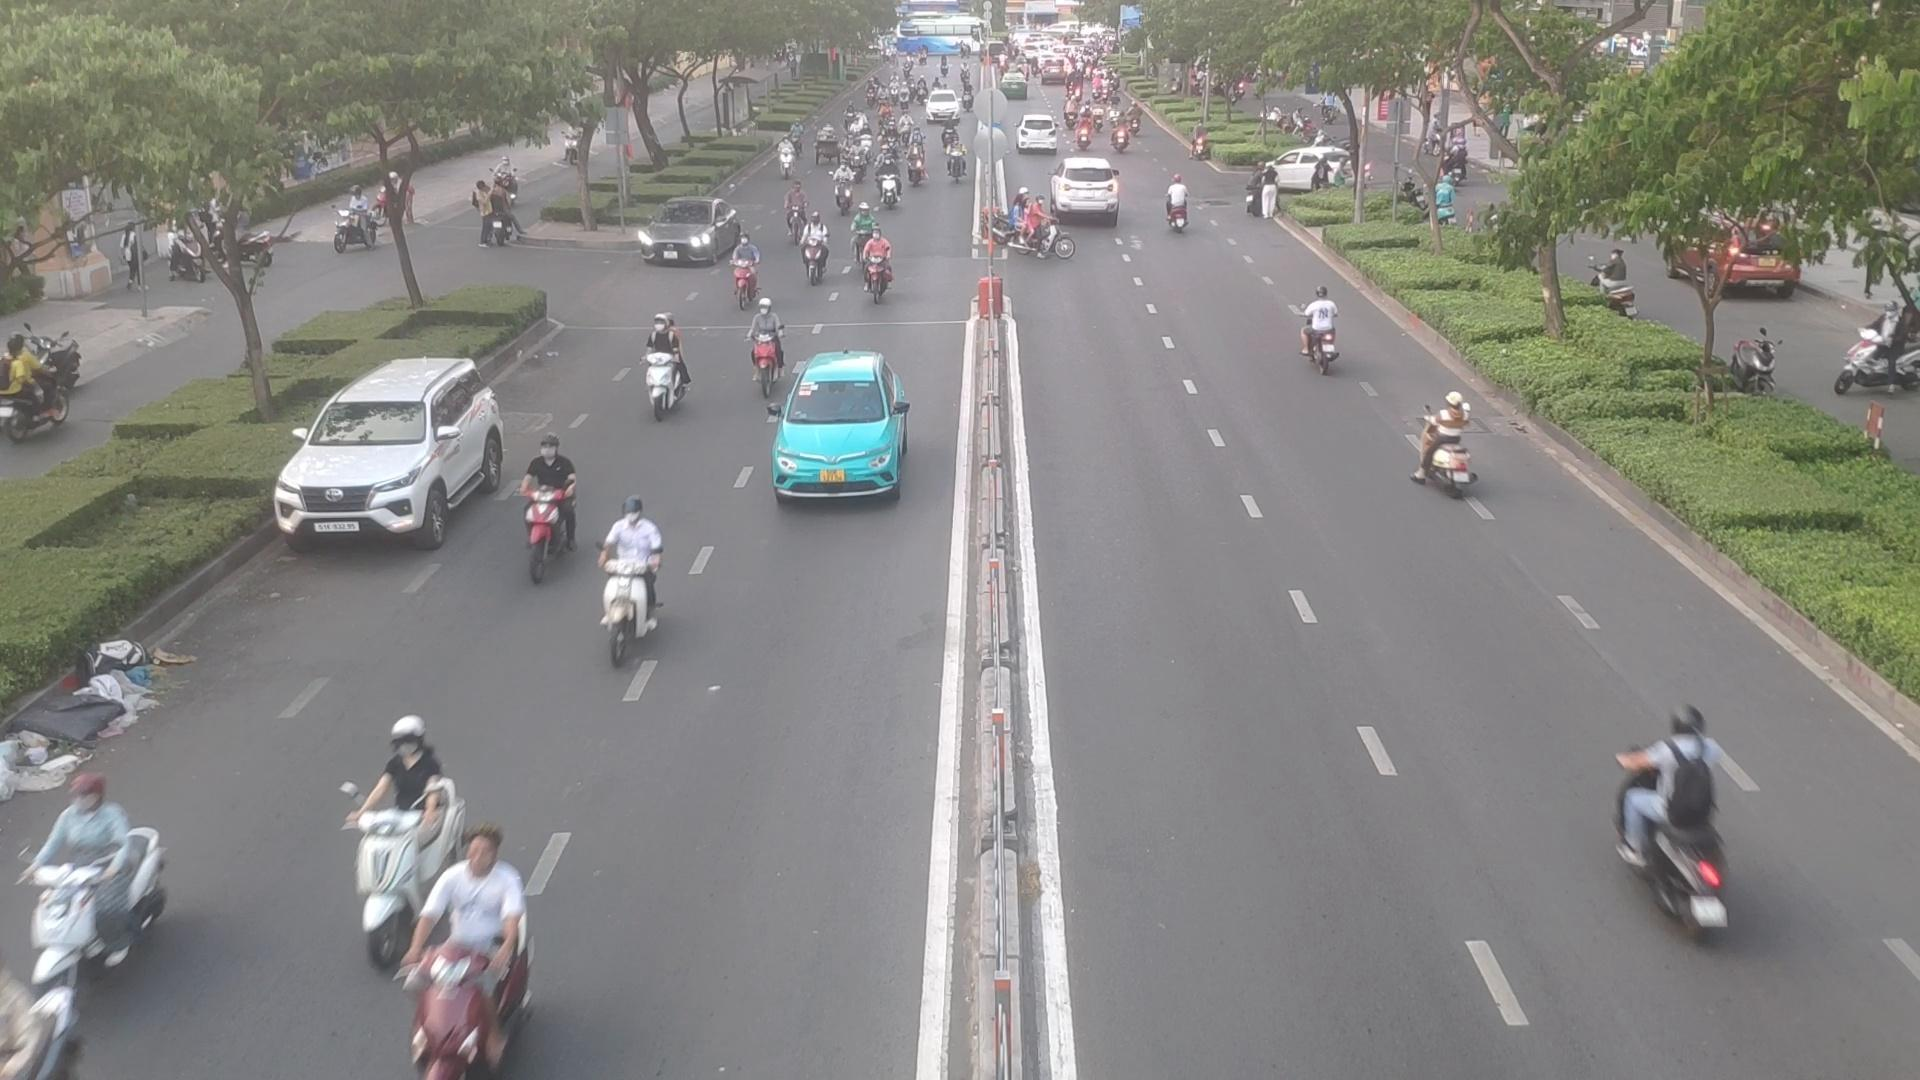car: (274, 360, 512, 553), (771, 351, 913, 504), (636, 200, 746, 269), (1055, 156, 1122, 220), (1265, 146, 1350, 191)
motorbike: (303, 717, 483, 975), (397, 825, 556, 1064), (1593, 688, 1743, 934), (13, 756, 167, 986), (502, 436, 596, 572), (593, 498, 666, 665), (1400, 386, 1484, 502), (626, 311, 691, 436), (1007, 195, 1072, 257), (1302, 280, 1340, 377), (856, 215, 899, 299), (740, 291, 773, 393), (721, 245, 764, 302), (802, 218, 828, 284), (1164, 171, 1191, 235), (832, 161, 858, 212), (872, 156, 899, 198), (785, 185, 804, 243), (943, 141, 965, 189), (847, 142, 866, 179), (909, 142, 924, 185), (775, 137, 789, 175)
